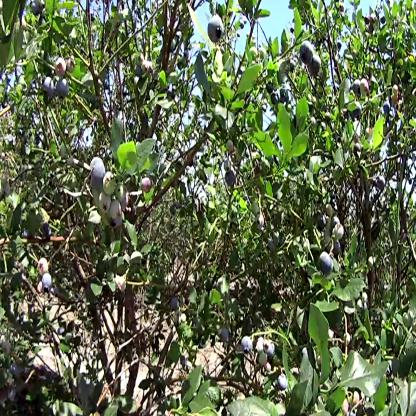intermediate: (54, 57, 67, 78)
mature: (299, 41, 321, 74), (43, 77, 70, 99), (89, 153, 104, 192), (208, 17, 227, 42), (320, 251, 333, 280), (240, 339, 256, 357), (43, 275, 54, 295)
young: (100, 198, 123, 217), (117, 186, 129, 211), (103, 174, 115, 194), (37, 259, 51, 276), (332, 222, 343, 241), (363, 77, 368, 103)
